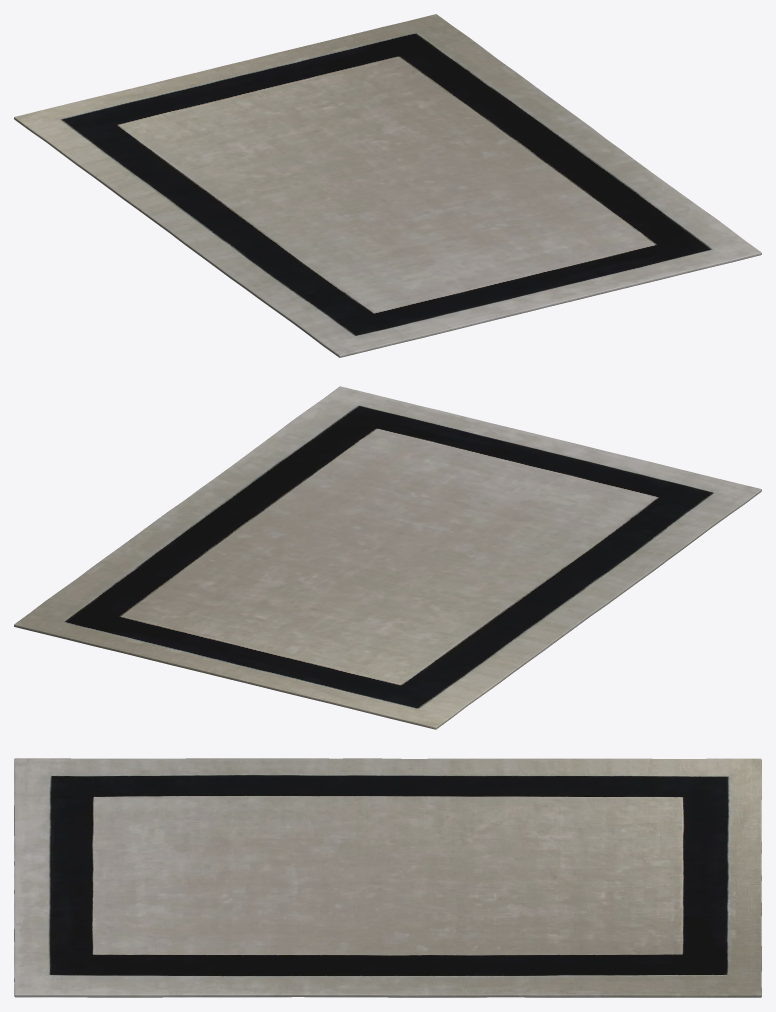
The model's file is rug.glb.
The picture shows the model from 3 angles, top to bottom: view 1: azimuth 30°, elevation 25°; view 2: azimuth 150°, elevation 25°; view 3: azimuth 270°, elevation 25°; orthographic projection. The views are drawn at different scales.
Visible parts, largest first — view 1: Simla_Bordered_Rugs_004; view 2: Simla_Bordered_Rugs_004; view 3: Simla_Bordered_Rugs_004.
Part boxes in pixels (box(x1,y1,x2,y2)): Simla_Bordered_Rugs_004: box(14, 14, 761, 357); Simla_Bordered_Rugs_004: box(14, 386, 761, 729); Simla_Bordered_Rugs_004: box(14, 758, 761, 997).
Size of the model in its own units: 3000 by 20.02 by 4000.
Materials: 1 (1 with a texture image).
